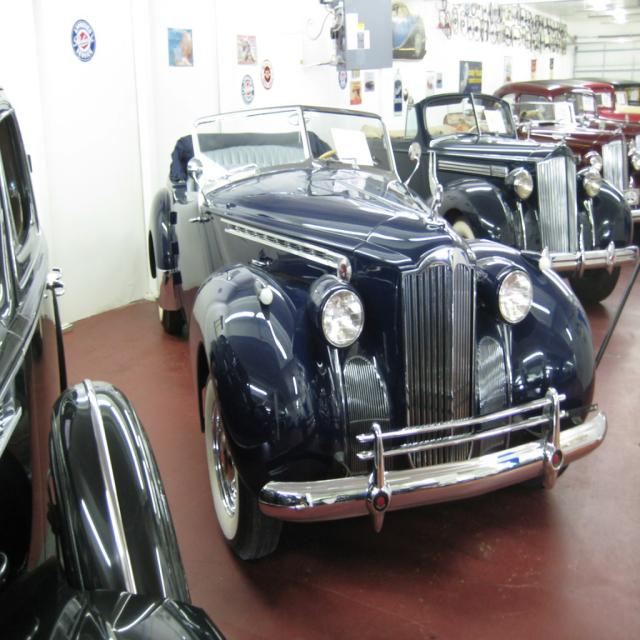car: (144, 99, 606, 565)
